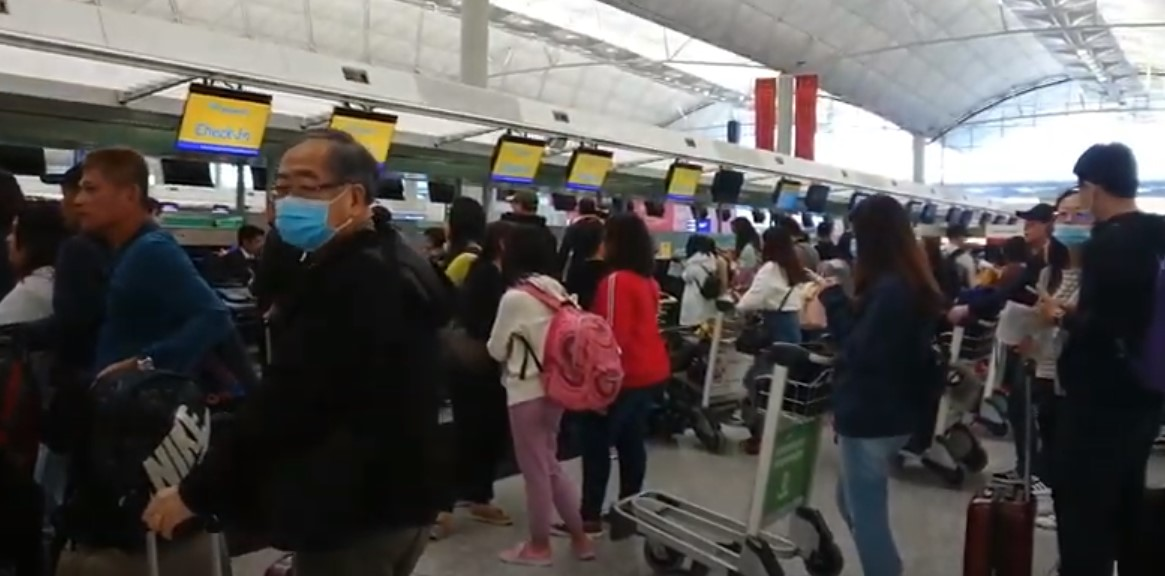face_no_mask: (73, 152, 145, 235), (1079, 145, 1140, 215)
face_with_mask: (265, 136, 382, 260), (1049, 188, 1090, 248)
